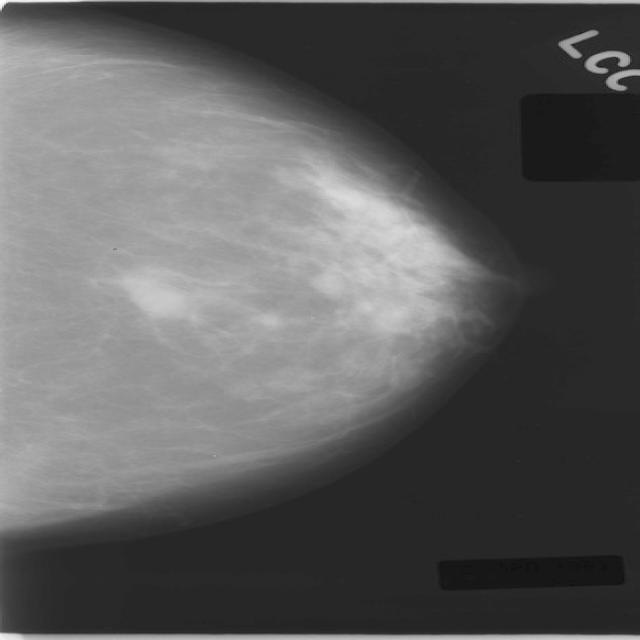tumour: (117, 274, 190, 317)
